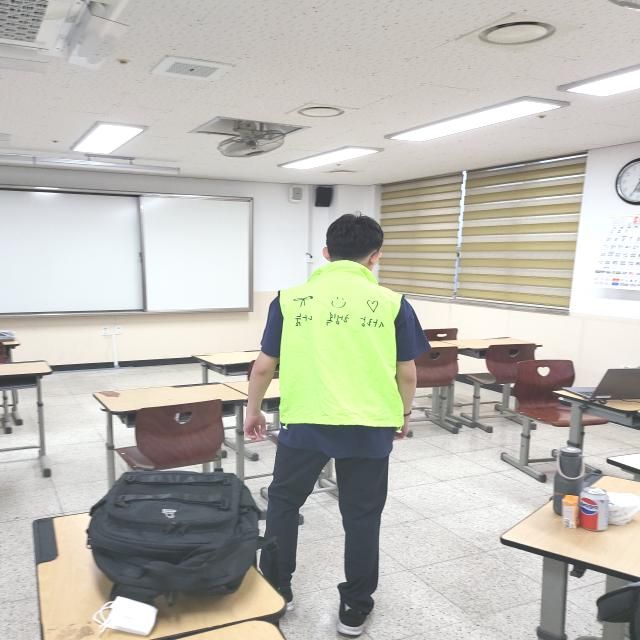weston_spy: (257, 259, 417, 446)
